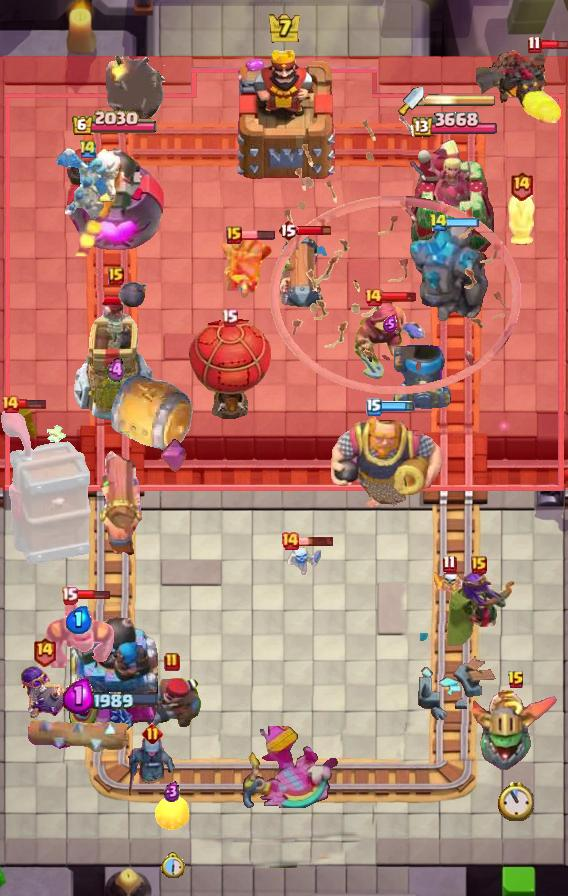archer-evolution: (476, 43, 568, 123)
baby-dragon: (107, 56, 166, 119)
bar: (409, 138, 497, 256)
barbarian-hut: (440, 566, 518, 652)
battle-healer: (96, 443, 144, 557), (275, 232, 325, 320)
battle-ram: (123, 732, 181, 800)
cannon-cart: (187, 317, 271, 419)
cannoneer-tower: (407, 226, 491, 324)
dart-goblin: (0, 407, 94, 567)
dirt: (108, 372, 194, 454)
electro-spirit: (63, 678, 93, 714), (66, 606, 92, 634), (107, 356, 125, 383), (164, 782, 180, 803), (383, 315, 397, 333)
elixir: (498, 781, 534, 821), (160, 853, 185, 880)
elixir-golem-small: (42, 600, 116, 668)
emote: (296, 223, 332, 236), (297, 535, 335, 547), (240, 229, 276, 241), (381, 291, 417, 303), (76, 589, 112, 601), (380, 400, 415, 412), (13, 398, 47, 410), (444, 217, 479, 228), (540, 37, 568, 50)
executioner: (505, 189, 537, 249)
fireball: (354, 299, 426, 381)
giant-skeleton: (329, 410, 445, 510)
goblin-ball: (19, 665, 69, 719)
goblin-barrel: (216, 237, 274, 299)
heal-spirit: (287, 544, 321, 576), (434, 567, 464, 599)
hog: (155, 793, 189, 831)
king-tower: (229, 43, 339, 181)
king-tower-bar: (424, 93, 496, 107)
mini-pekka: (52, 147, 124, 223)
minion: (27, 715, 130, 753)
musketeer: (393, 345, 453, 409)
night-witch: (472, 688, 560, 774)
phoenix-small: (140, 675, 204, 729)
selected: (409, 112, 497, 140), (68, 687, 159, 713), (70, 111, 157, 138)
skeleton-barrel: (269, 114, 523, 394)
skeleton-king-skill: (160, 438, 188, 474)
text: (509, 170, 534, 201), (32, 637, 57, 668), (277, 218, 299, 242), (142, 723, 163, 744), (78, 138, 98, 159), (363, 287, 383, 307), (0, 394, 20, 414), (280, 531, 300, 551), (507, 670, 525, 690), (429, 213, 448, 231), (222, 309, 239, 328), (61, 587, 78, 606), (164, 652, 180, 672), (226, 226, 242, 244), (108, 267, 124, 285), (366, 398, 382, 416), (471, 556, 487, 574), (442, 554, 457, 573), (527, 35, 541, 53)
tower-bar: (63, 138, 164, 256), (68, 611, 160, 731)
zappy: (72, 281, 160, 425)
